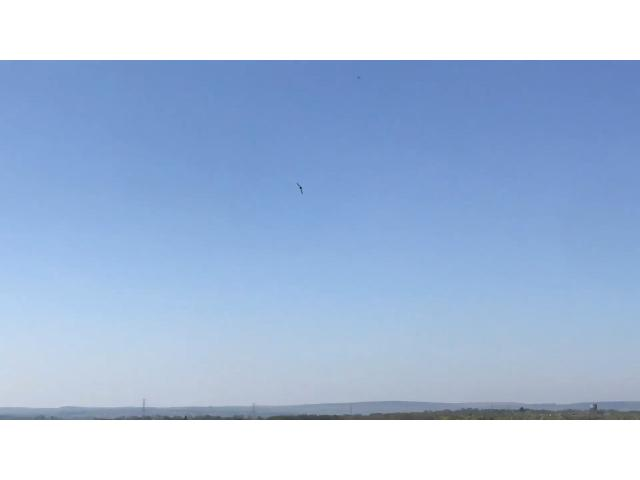Anti-Drone: (286, 178, 314, 200)
